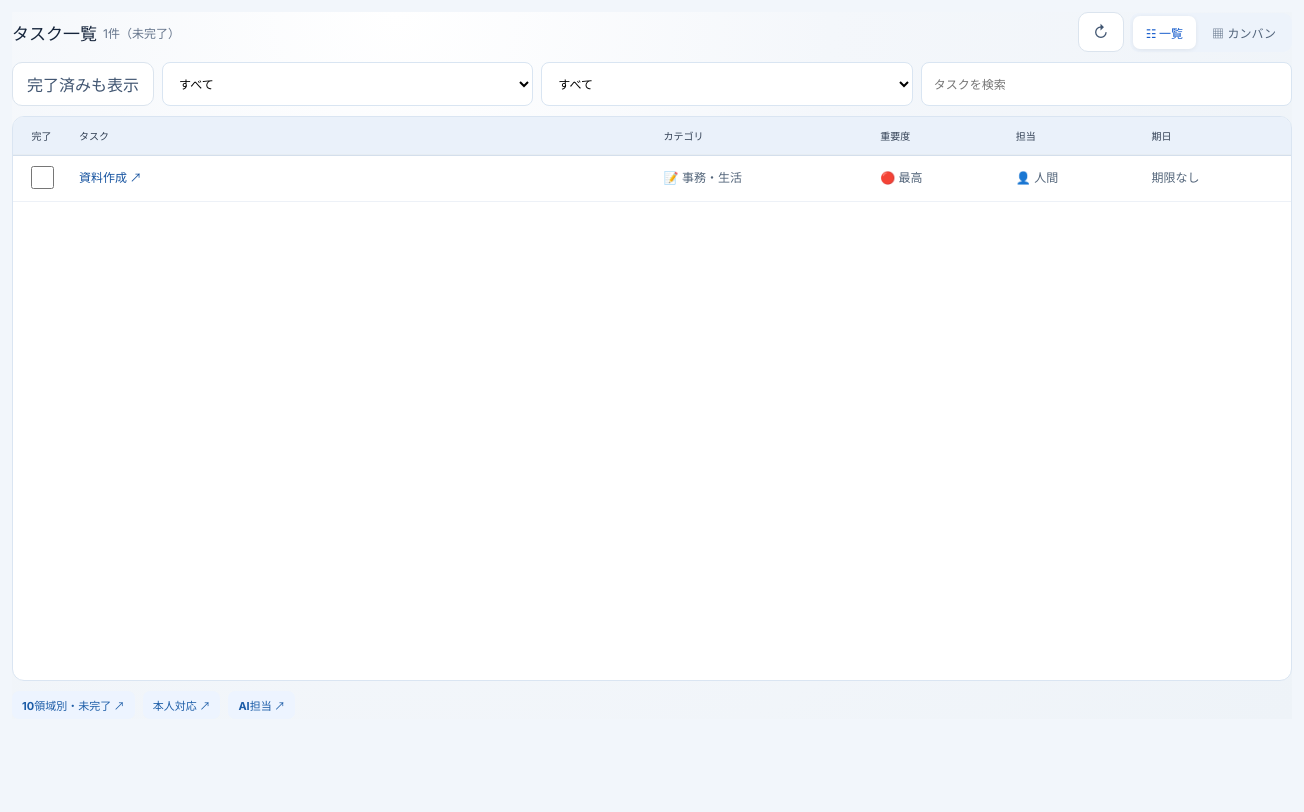
Test: Notion更新が失敗すればチェック対象を隠さずエラー表示
Click the checkbox named "資料作成を完了". click: (42, 178)
box: [30,166,54,189]
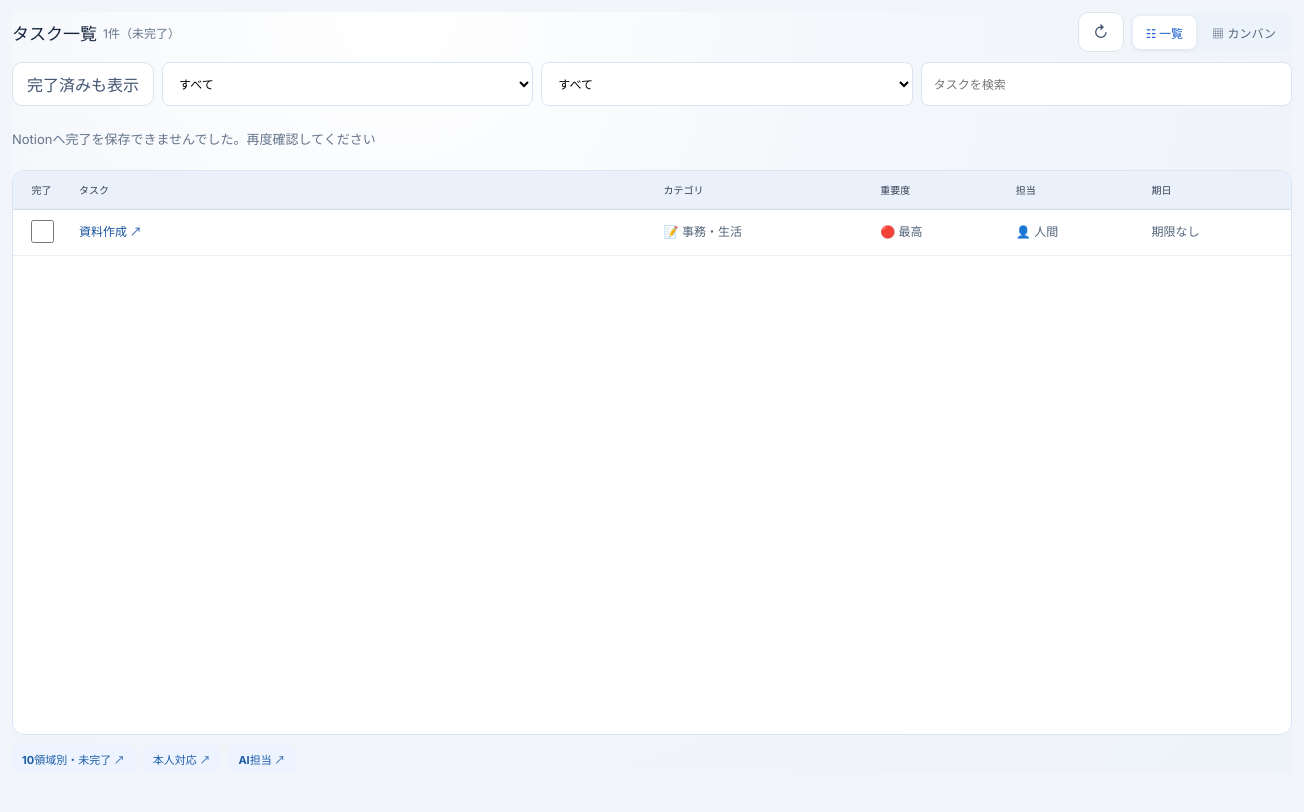
expect the checkbox named "資料作成を完了" is shown: met, box [30,220,54,243]
expect the message shows "Notionへ完了を保存できませんでした": met, box [12,131,376,147]
